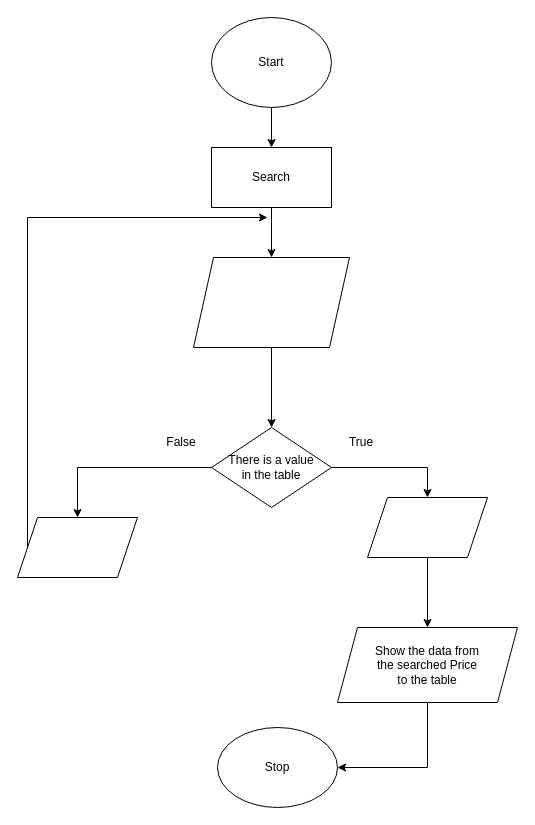
Some shapes in this 535 by 825 pixel diagram are drawn without their labels. The shapes that lost their labels are listed below. From the top down, each one's centre as x and y in pixels, then its label:
point (271, 302): Create a statement " Select * from table where Price=Search"
point (77, 547): Show no result
point (427, 527): Execute the statement
